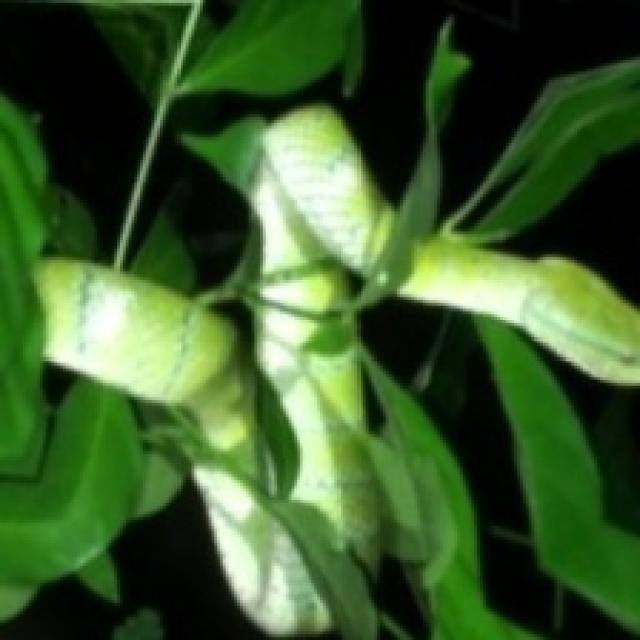north ph temple pitviper: (9, 63, 637, 637)
